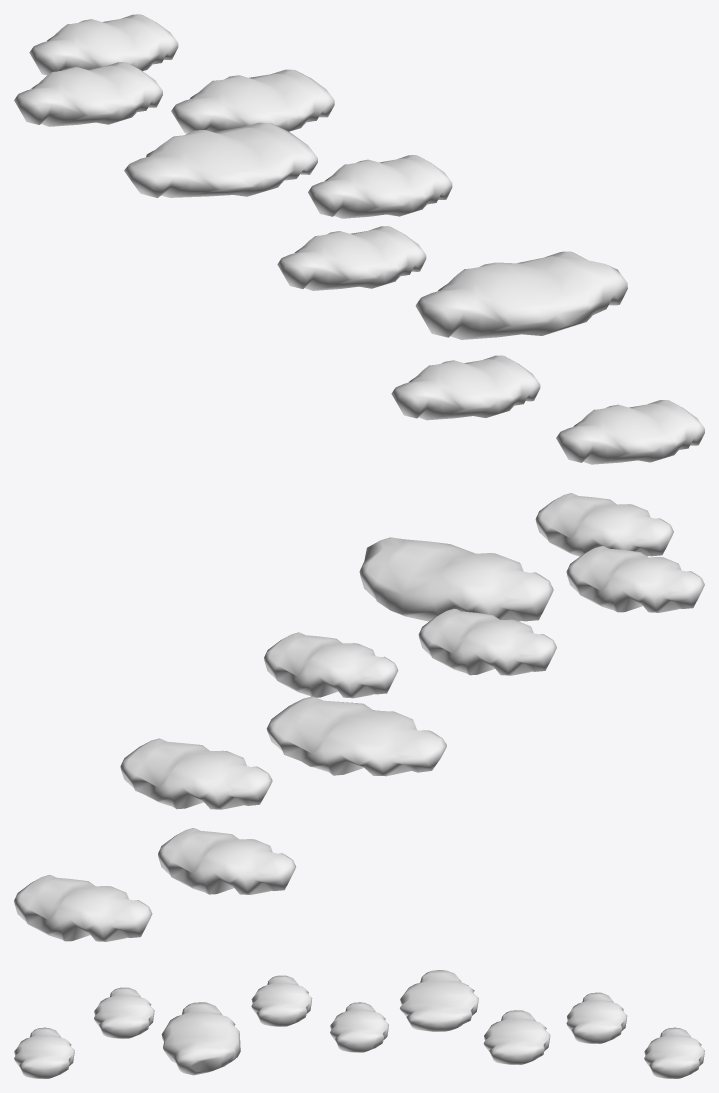
The model's file is See_Cloud.fbx.
3 renders of one model, top to bottom at view 1: azimuth 30°, elevation 25°; view 2: azimuth 150°, elevation 25°; view 3: azimuth 270°, elevation 25°, orthographic. The views are drawn at different scales.
Parts seen in each view (by area): view 1: Object123, Object124, Object127, Object120, Object121, Object126, Object122, Object125, Object129; view 2: Object123, Object124, Object127, Object120, Object126, Object122, Object129, Object125, Object121; view 3: Object123, Object124, Object127, Object122, Object120, Object126, Object121, Object129, Object125.
Part boxes in pixels (x1=…): Object123: x1=415, y1=251, x2=627, y2=339; Object124: x1=124, y1=122, x2=317, y2=197; Object127: x1=171, y1=69, x2=334, y2=133; Object120: x1=391, y1=355, x2=540, y2=420; Object121: x1=556, y1=400, x2=704, y2=464; Object126: x1=14, y1=62, x2=162, y2=126; Object122: x1=277, y1=226, x2=426, y2=290; Object125: x1=308, y1=155, x2=452, y2=218; Object129: x1=29, y1=14, x2=178, y2=75; Object123: x1=359, y1=537, x2=553, y2=621; Object124: x1=266, y1=696, x2=446, y2=776; Object127: x1=120, y1=738, x2=272, y2=809; Object120: x1=566, y1=546, x2=704, y2=612; Object126: x1=158, y1=828, x2=295, y2=894; Object122: x1=418, y1=608, x2=556, y2=675; Object129: x1=14, y1=875, x2=152, y2=941; Object125: x1=264, y1=632, x2=398, y2=698; Object121: x1=535, y1=493, x2=673, y2=556; Object123: x1=161, y1=1002, x2=240, y2=1075; Object124: x1=400, y1=970, x2=478, y2=1031; Object127: x1=483, y1=1010, x2=550, y2=1064; Object122: x1=251, y1=975, x2=312, y2=1026; Object120: x1=94, y1=987, x2=154, y2=1038; Object126: x1=566, y1=992, x2=627, y2=1043; Object121: x1=14, y1=1027, x2=74, y2=1078; Object129: x1=644, y1=1027, x2=704, y2=1078; Object125: x1=330, y1=1002, x2=388, y2=1052.
Size of the model in its own units: 605 by 2155 by 193.
